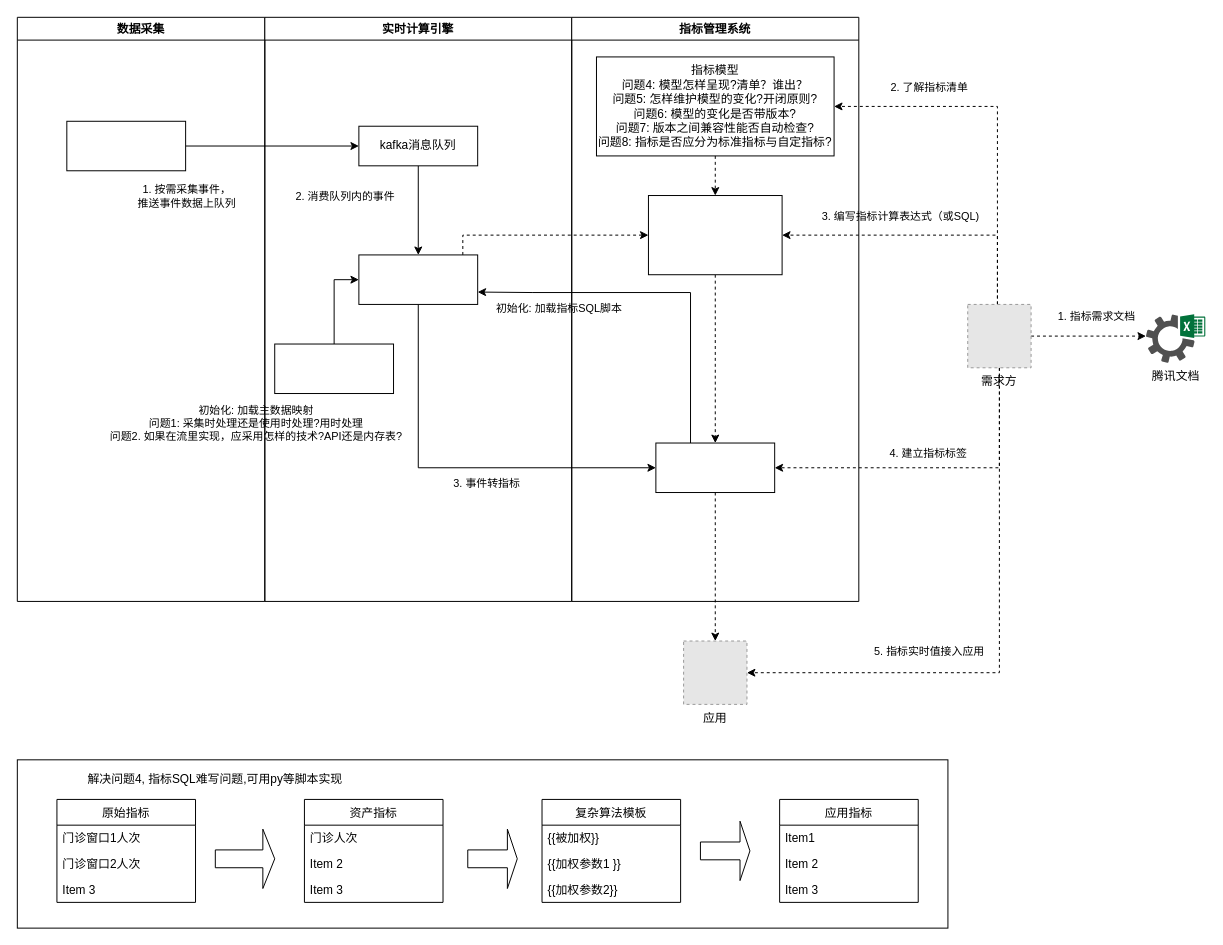
The diagram is 1223 pixels wide and 945 high, and some of its shapes have lost their labels. Grey dashed boxes stand in for pictures. The shapes that lost their labels are listed below. From the top down, each one's centre as x and y in pixels, then its label:
At point 126,145: "EVENT-COLLECTOR （业务事件）".
At point 714,235: "Flink SQLClient 问题3: 如何降低SQL的难度，便于用户可以直接写。比如：利用表达式做指标拼接".
At point 418,279: "FLINK计算引擎".
At point 334,368: "SQLserver(主数据）".
At point 715,467: "Redis(指标定义) 问题9: 实时历史指标存储方案".
At point 244,858: "简单算法表达式".
